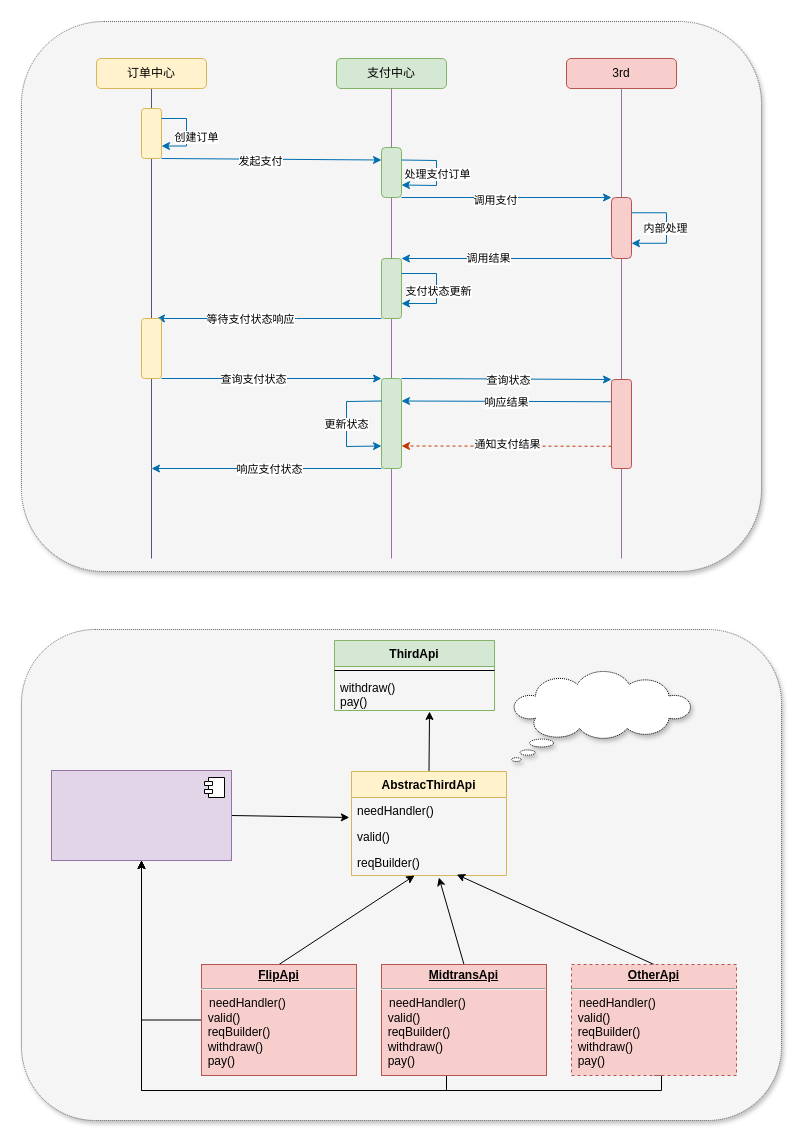
Image size: 805x1145. Some labels were removed from this diagram. The shapes that lost their labels are listed below. From the top down, each one's centre as x and y in pixels, then its label:
At (602,717): "具体使用的 三方平台和通道 经过策略进行配置".
At (141,815): "ThirdApiFactory (组合所有三方平台API)".
